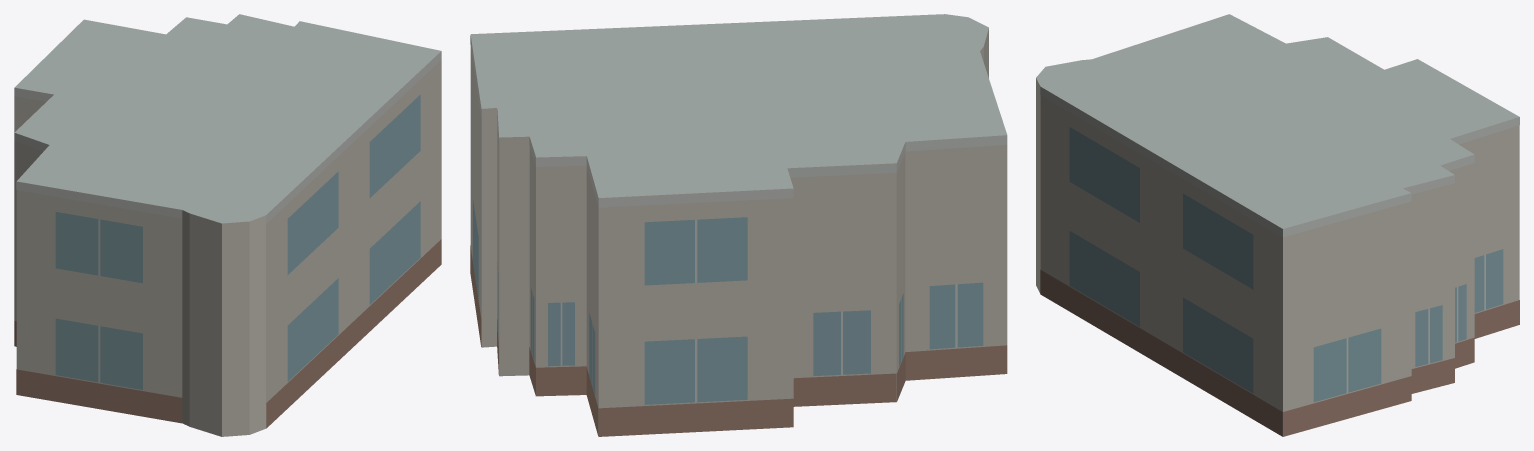
Rendered from survey-upis-32598499.glb.
The picture shows the model from 3 angles, left to right: view 1: azimuth 30°, elevation 25°; view 2: azimuth 150°, elevation 25°; view 3: azimuth 270°, elevation 25°; orthographic projection. The views are drawn at different scales.
Parts seen in each view (by area): view 1: survey-upis-32598499.tmp; view 2: survey-upis-32598499.tmp; view 3: survey-upis-32598499.tmp.
Part boxes in pixels (bbox=[...]): survey-upis-32598499.tmp: bbox=[14, 14, 441, 436]; survey-upis-32598499.tmp: bbox=[470, 14, 1007, 436]; survey-upis-32598499.tmp: bbox=[1036, 14, 1519, 436].
Bounding box in the file's own units: 13.54 × 6.1 × 12.87.
